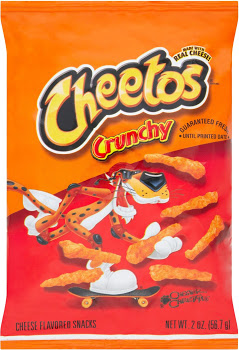cheetos: (3, 1, 239, 350)
